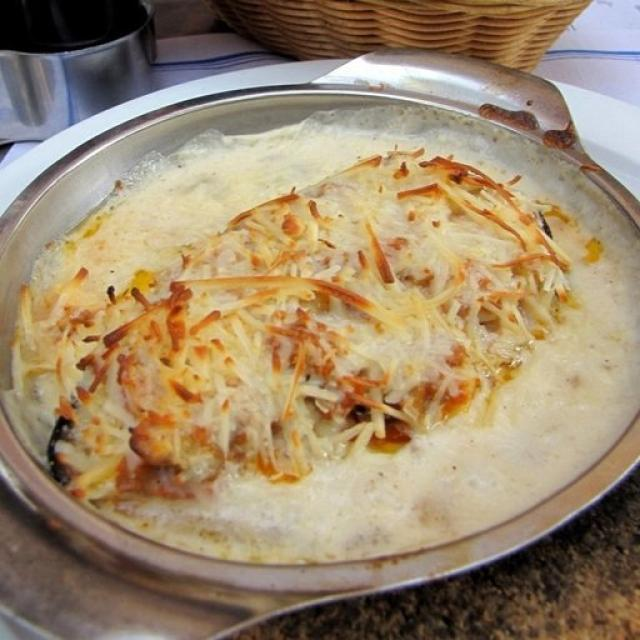Lasagna: (79, 170, 579, 532)
